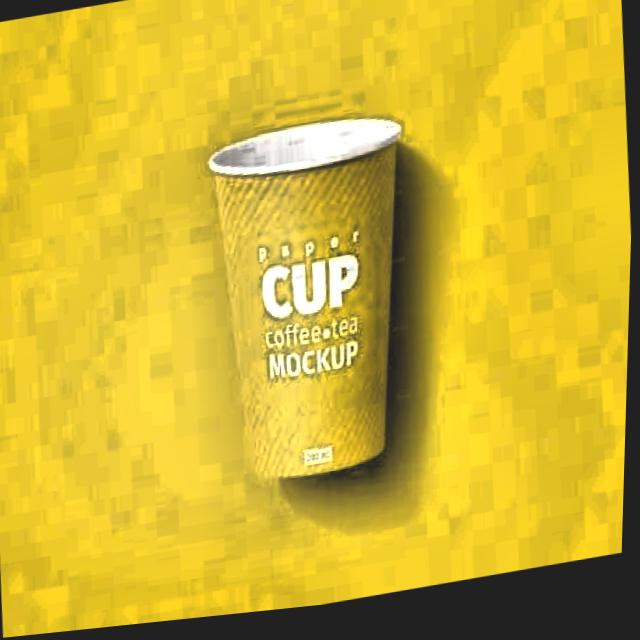Cup: (190, 85, 452, 515)
